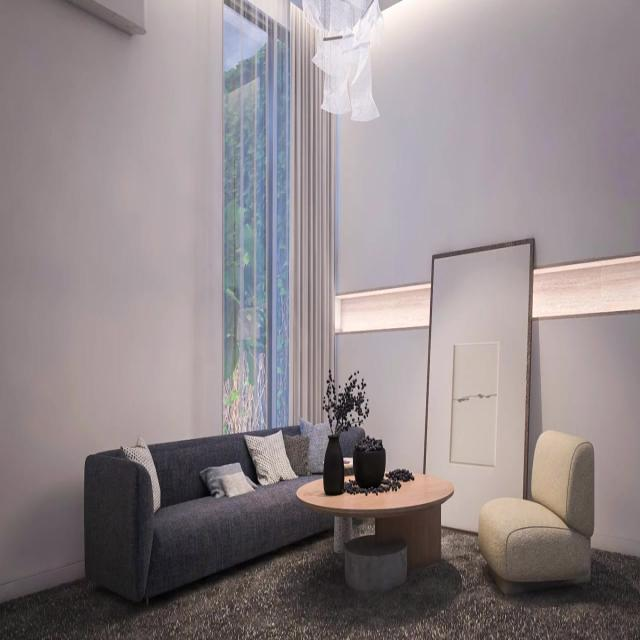obstacle: (83, 420, 366, 606), (478, 428, 594, 596), (296, 469, 454, 591)
